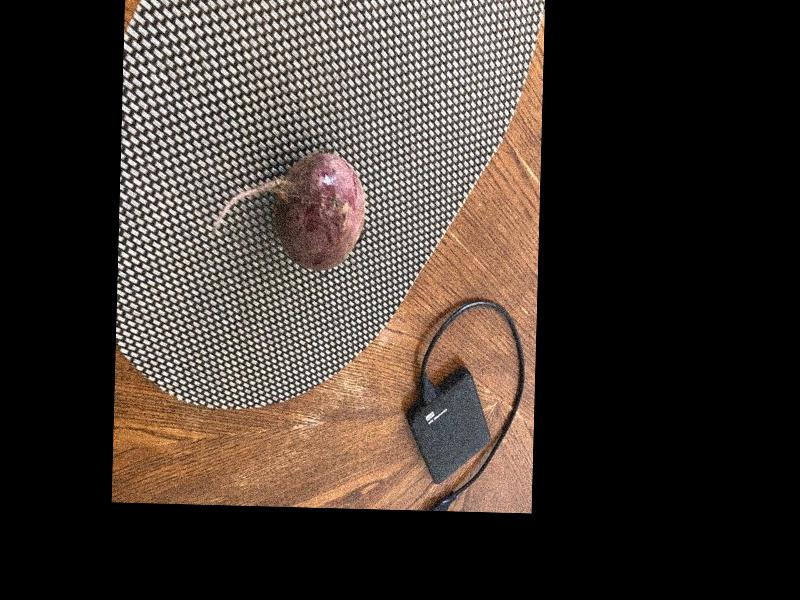Beet: (210, 149, 366, 270)
